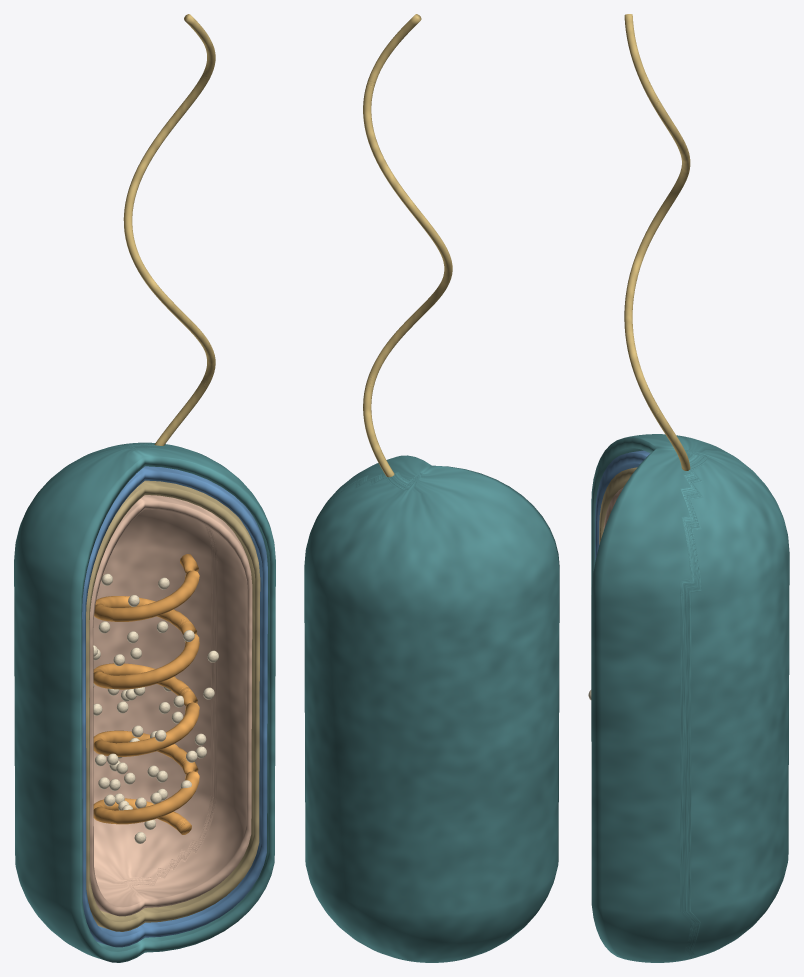
Rendered from cutaway.glb.
The picture shows the model from 3 angles, left to right: view 1: azimuth 30°, elevation 25°; view 2: azimuth 150°, elevation 25°; view 3: azimuth 270°, elevation 25°; orthographic projection. The views are drawn at different scales.
Visible parts, largest first — view 1: citoplasma_mesh, externa_mesh, nucleoide_mesh, parede_mesh, membrana_mesh, ribossomos_mesh, flagelo_mesh; view 2: externa_mesh, flagelo_mesh; view 3: externa_mesh, flagelo_mesh, parede_mesh, membrana_mesh.
Part boxes in pixels (x1,y1,x2,y2): citoplasma_mesh: (89,495,252,916); externa_mesh: (14,442,275,962); nucleoide_mesh: (93,554,199,834); parede_mesh: (82,466,267,947); membrana_mesh: (86,480,260,931); ribossomos_mesh: (93,573,218,843); flagelo_mesh: (123,14,215,445); externa_mesh: (304,455,559,962); flagelo_mesh: (363,14,452,477); externa_mesh: (591,434,789,962); flagelo_mesh: (624,14,690,470); parede_mesh: (595,450,650,561); membrana_mesh: (599,467,637,544).
Bounding box in the file's own units: 1.1 × 4.36 × 0.8369.
Materials: 7 (7 with a texture image).
